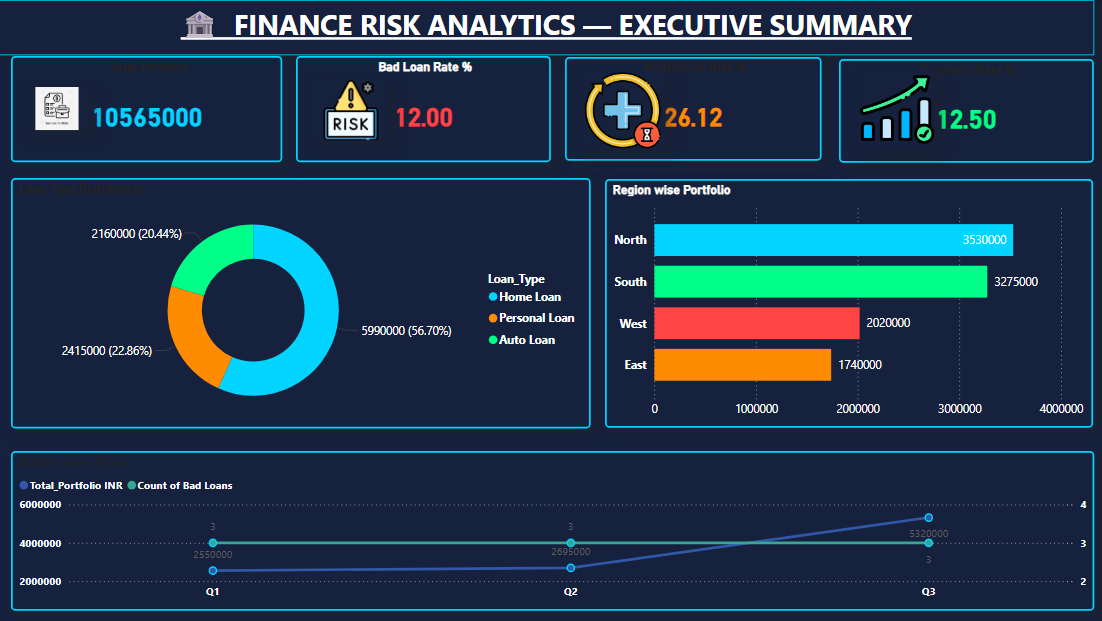

Layout of this report page (visuals, bound fields, positions):
{"tool":"powerbi","page":{"name":"Executive Summary","canvas":[1280,720],"ordinal":0},"visuals":[{"type":"textbox","box":[0,0,1269.3,64.3],"z":0},{"type":"card","title":"Total Portfolio","fields":{"Values":["_Mesures.Total_Portfolio"]},"box":[14.6,64.8,314.3,123.1],"z":1000},{"type":"card","title":"Recovery Rate %","fields":{"Values":["Risk_KPI.Recovery_Rate"]},"box":[973.8,68.1,294.9,119.9],"z":2000},{"type":"card","title":"Portfolio At Risk %","fields":{"Values":["Advanced_KPIs.Portfolio_At_Risk"]},"box":[656.2,66.4,296.5,119.9],"z":3000},{"type":"card","title":"Bad Loan Rate %","fields":{"Values":["Risk_KPI.Bad_Loan_Count"]},"box":[345.1,64.8,294.9,123.1],"z":4000},{"type":"donutChart","title":"Loan Type Distribution","fields":{"Category":["Topic Append Queries + Multiple.Loan_Type"],"Y":["_Mesures.Total_Portfolio"]},"box":[14.6,205.8,670.8,290],"z":5000},{"type":"clusteredBarChart","title":"Region wise Portfolio","fields":{"Category":["Topic Append Queries + Multiple.Region"],"Y":["_Mesures.Total_Portfolio"]},"box":[703.2,207.4,565.5,288.4],"z":6000},{"type":"lineChart","title":"Quarter wise Trend","fields":{"Y":["_Mesures.Total_Portfolio"],"Y2":["CountNonNull(LoanType_Summary.Bad_Loans_Count)"],"Category":["Topic Append Queries + Multiple.Quarter"]},"box":[14.6,521.7,1254.1,184.7],"z":7000},{"type":"image","box":[674,82.6,98.8,90.7],"z":8000},{"type":"image","box":[30.8,100.5,74.5,50.2],"z":10000},{"type":"image","box":[998.1,79.4,85.9,94],"z":11000},{"type":"image","box":[362.9,92.4,89.1,69.7],"z":12000}]}

Visuals, with their boxes in screenshot pixels (x1, y1, x2, y2), scaled from the page's 1280x720 canvas onto the 1102x621 screenshot:
textbox: bbox=(0, 0, 1093, 55)
"Total Portfolio" card: bbox=(13, 56, 283, 162)
"Recovery Rate %" card: bbox=(838, 59, 1092, 162)
"Portfolio At Risk %" card: bbox=(565, 57, 820, 161)
"Bad Loan Rate %" card: bbox=(297, 56, 551, 162)
"Loan Type Distribution" donutChart: bbox=(13, 178, 590, 428)
"Region wise Portfolio" clusteredBarChart: bbox=(605, 179, 1092, 428)
"Quarter wise Trend" lineChart: bbox=(13, 450, 1092, 609)
image: bbox=(580, 71, 665, 149)
image: bbox=(27, 87, 91, 130)
image: bbox=(859, 68, 933, 150)
image: bbox=(312, 80, 389, 140)
